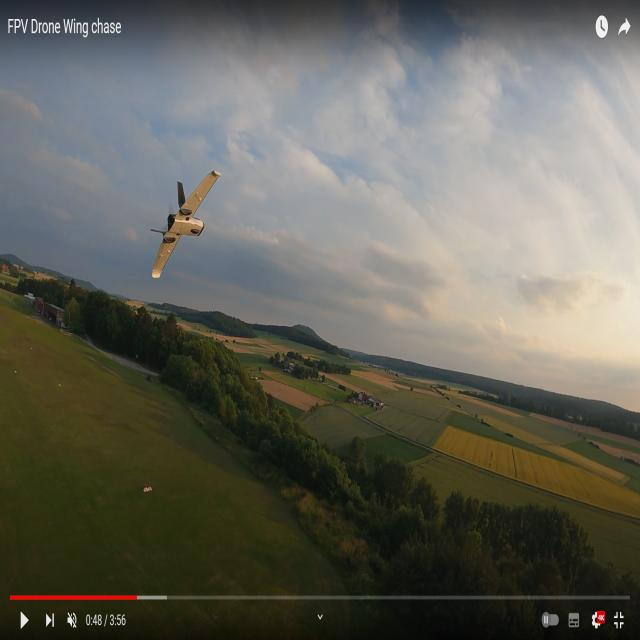iha: (185, 201, 187, 252)
